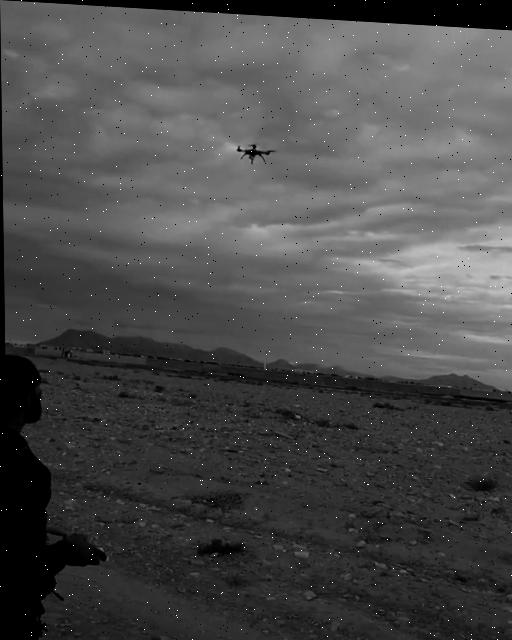drone: (232, 134, 277, 163)
